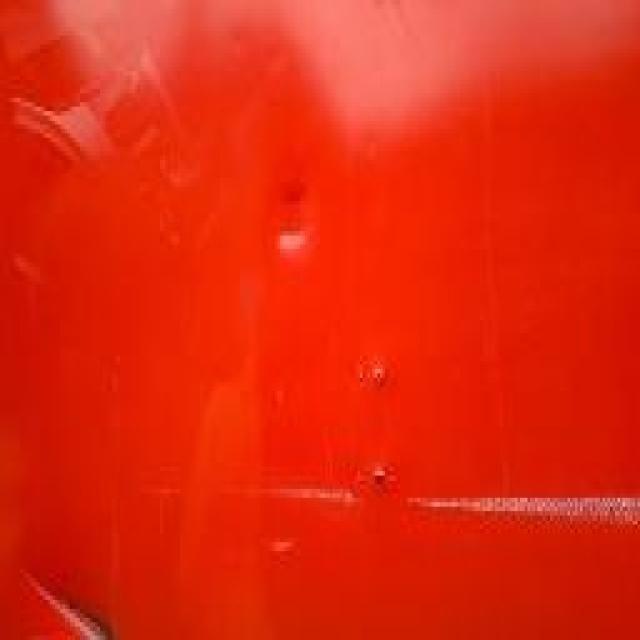Door: (15, 164, 640, 640)
